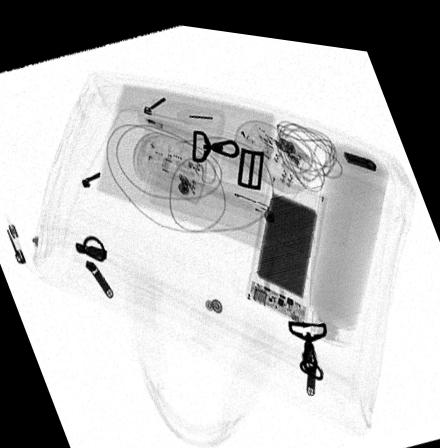Powerbank: (245, 165, 324, 319)
